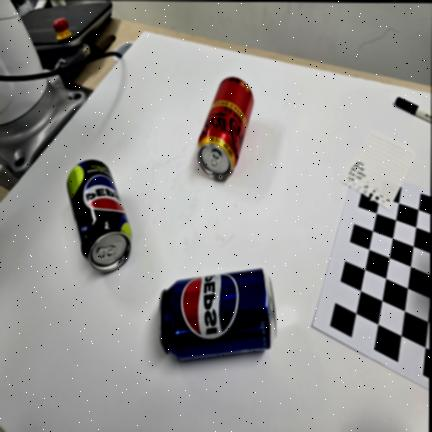can_coke_decaf: (198, 78, 255, 178)
can_pepsi: (156, 267, 279, 362)
can_pepsi_zero: (66, 160, 132, 273)
